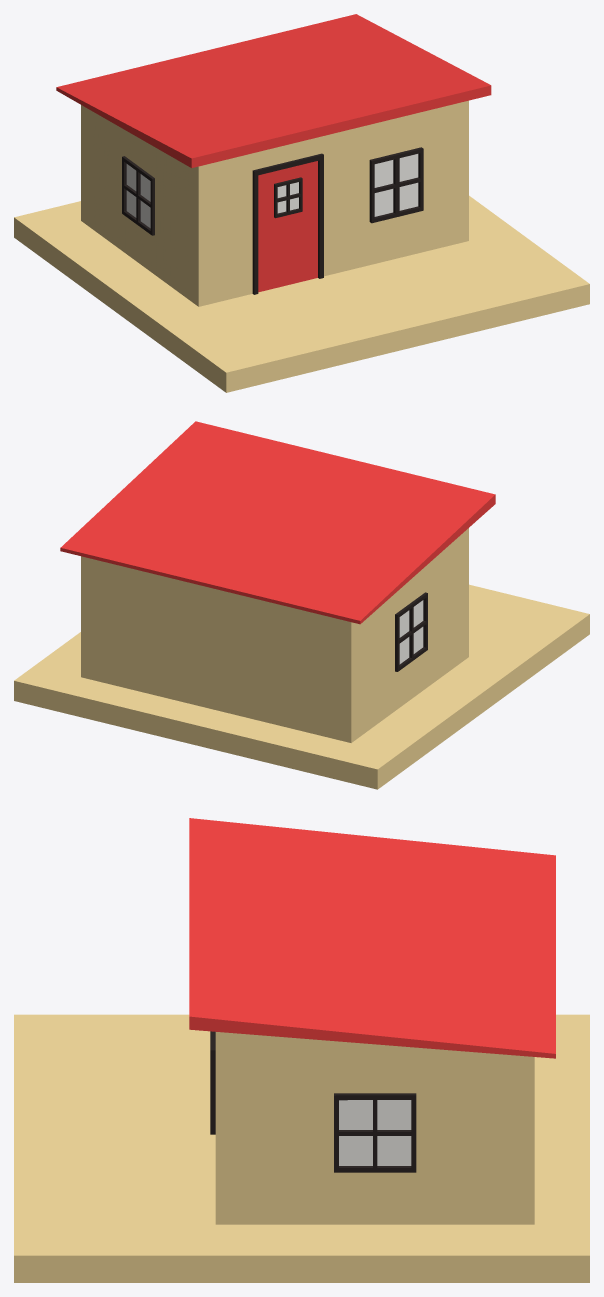
File: House 03 R.FBX
3 renders of one model, top to bottom at view 1: azimuth 30°, elevation 25°; view 2: azimuth 150°, elevation 25°; view 3: azimuth 270°, elevation 25°, orthographic. The views are drawn at different scales.
Parts seen in each view (by area): view 1: Box001; view 2: Box001; view 3: Box001.
Part boxes in pixels (<box>): Box001: <box>14,14,589,392</box>; Box001: <box>14,421,589,789</box>; Box001: <box>14,818,589,1282</box>.
Size of the model in its own units: 21.51 by 10.16 by 21.75.
